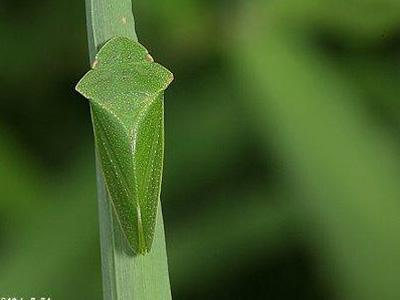Cicadellidae: (73, 31, 175, 257)
